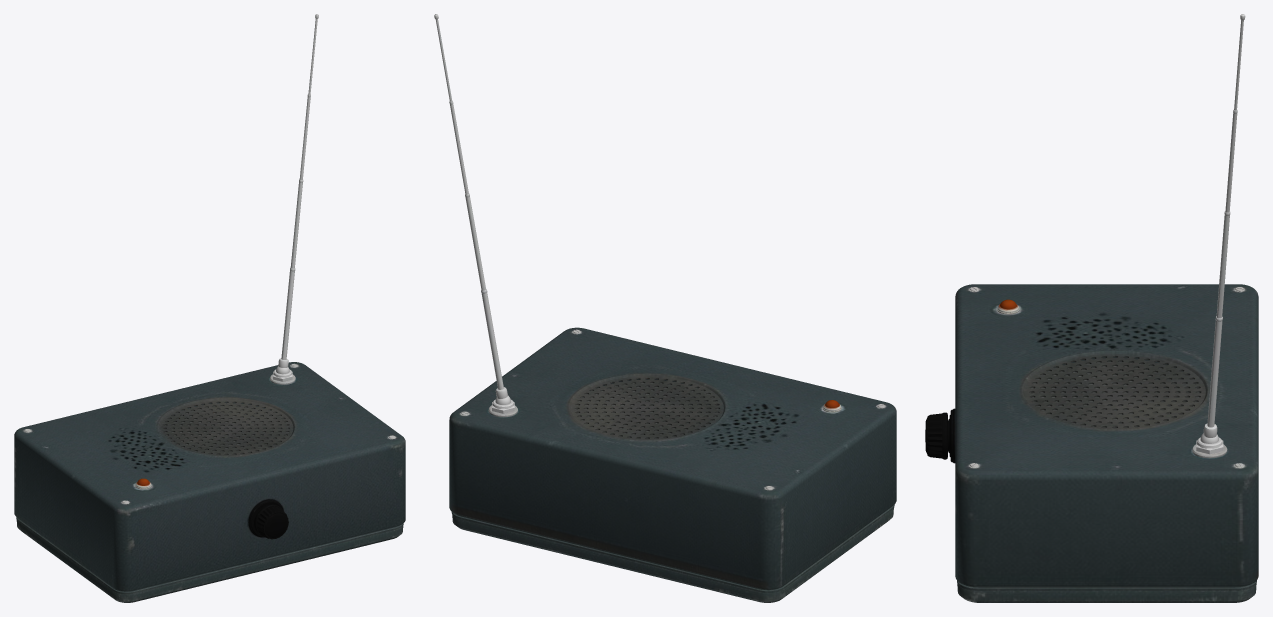
Rendered from ricevitore.glb.
3 views of the same model, side by side, from view 1: azimuth 30°, elevation 25°; view 2: azimuth 150°, elevation 25°; view 3: azimuth 270°, elevation 25° (orthographic). The views are drawn at different scales.
Parts seen in each view (by area): view 1: One-piece enamel cover • 217 integral punched apertures, Low moulded receiver plinth, Bright folded chassis reveal, Internal full-range speaker • cone and roll surround, Telescopic chrome tube 01; view 2: One-piece enamel cover • 217 integral punched apertures, Low moulded receiver plinth, Bright folded chassis reveal, Internal full-range speaker • cone and roll surround, Telescopic chrome tube 01; view 3: One-piece enamel cover • 217 integral punched apertures, Low moulded receiver plinth, Internal full-range speaker • cone and roll surround, Bright folded chassis reveal, Telescopic chrome tube 01, Tuning knob • 24 finger flutes, Telescopic chrome tube 02, Perimeter compression gasket, Telescopic chrome tube 03.
Part boxes in pixels (x1,y1,x2,y2): One-piece enamel cover • 217 integral punched apertures: (14,362,405,591); Low moulded receiver plinth: (16,520,403,602); Bright folded chassis reveal: (16,517,403,594); Internal full-range speaker • cone and roll surround: (163,406,289,455); Telescopic chrome tube 01: (281,270,294,359); One-piece enamel cover • 217 integral punched apertures: (449,327,896,589); Low moulded receiver plinth: (452,508,893,602); Bright folded chassis reveal: (451,504,894,592); Internal full-range speaker • cone and roll surround: (575,383,719,439); Telescopic chrome tube 01: (481,292,503,389); One-piece enamel cover • 217 integral punched apertures: (955,284,1258,586); Low moulded receiver plinth: (957,584,1256,602); Internal full-range speaker • cone and roll surround: (1030,361,1200,428); Bright folded chassis reveal: (957,580,1256,590); Telescopic chrome tube 01: (1207,320,1222,427); Tuning knob • 24 finger flutes: (927,413,942,458); Telescopic chrome tube 02: (1216,215,1229,318); Perimeter compression gasket: (964,584,1249,587); Telescopic chrome tube 03: (1225,113,1237,212).
Bounding box in the file's own units: 1.43 × 2 × 0.9984.
Materials: 1 (1 with a texture image).
